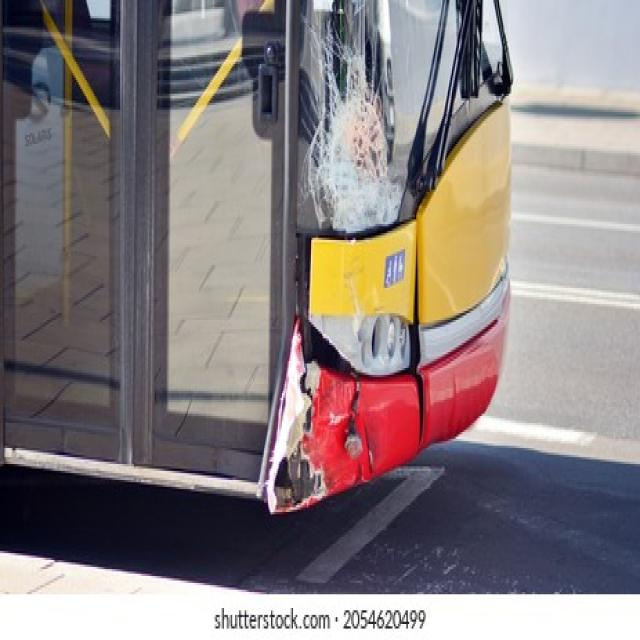Accident: (1, 0, 523, 526)
